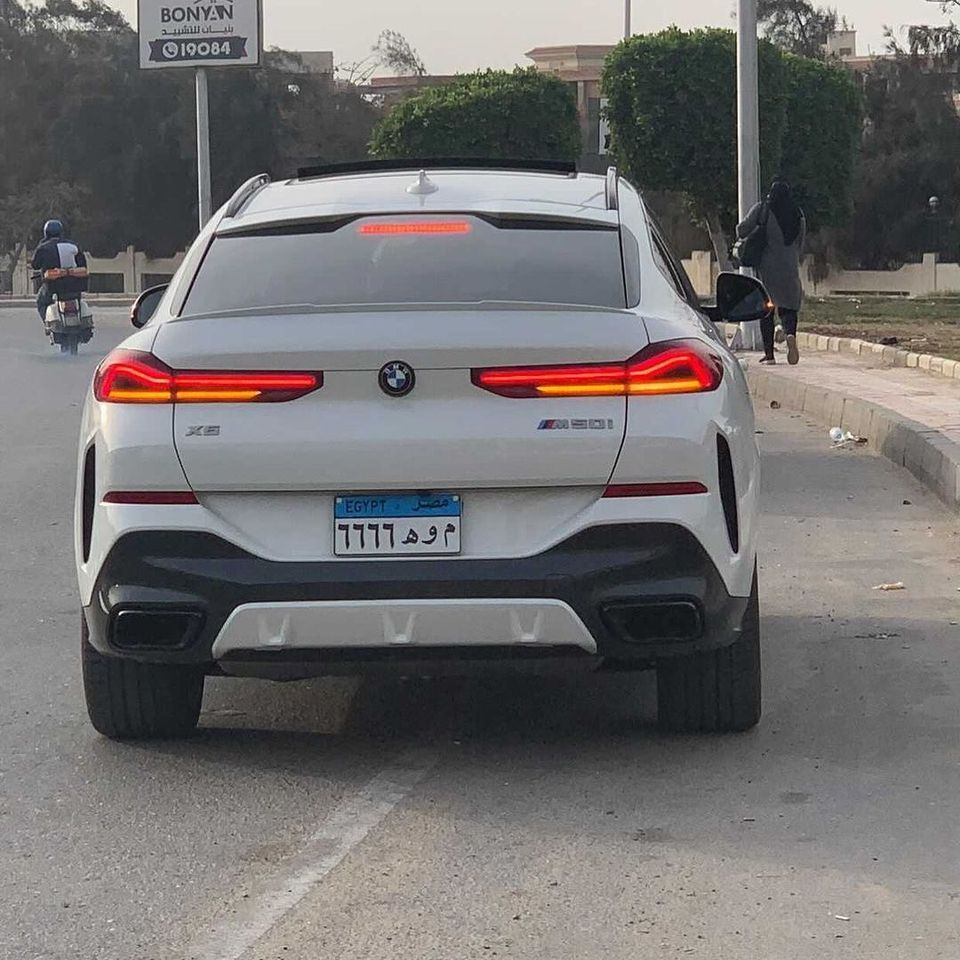carpl: (328, 497, 477, 560)
